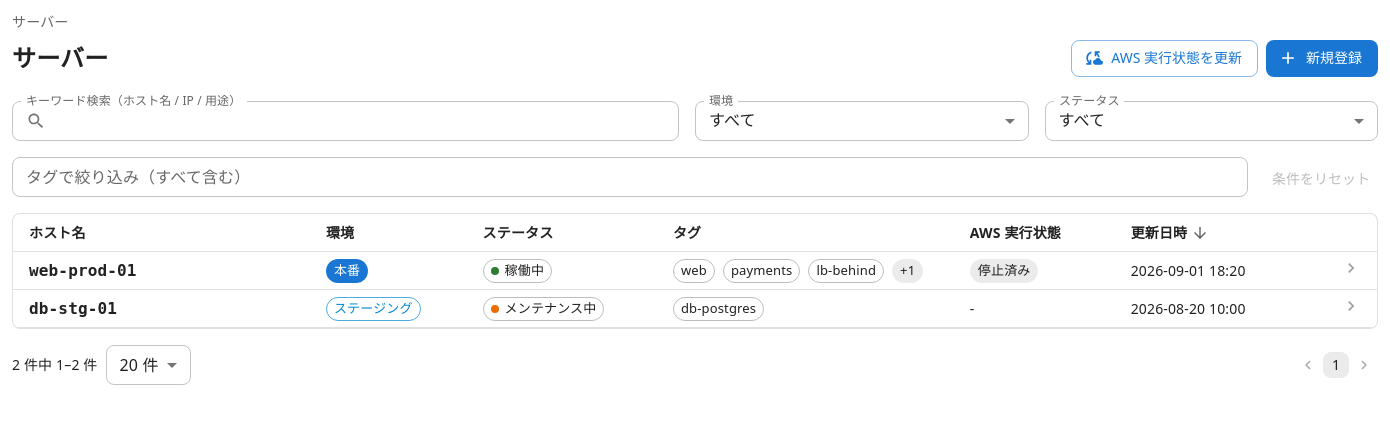
Test: ServerListPage › ソートヘッダークリックで URL の sort / order が変わる
Check: the text "web-prod-01" is shown, box [29, 261, 137, 280]
Step 1. Click the button "ホスト名" → x=57, y=233, box [29, 223, 86, 242]
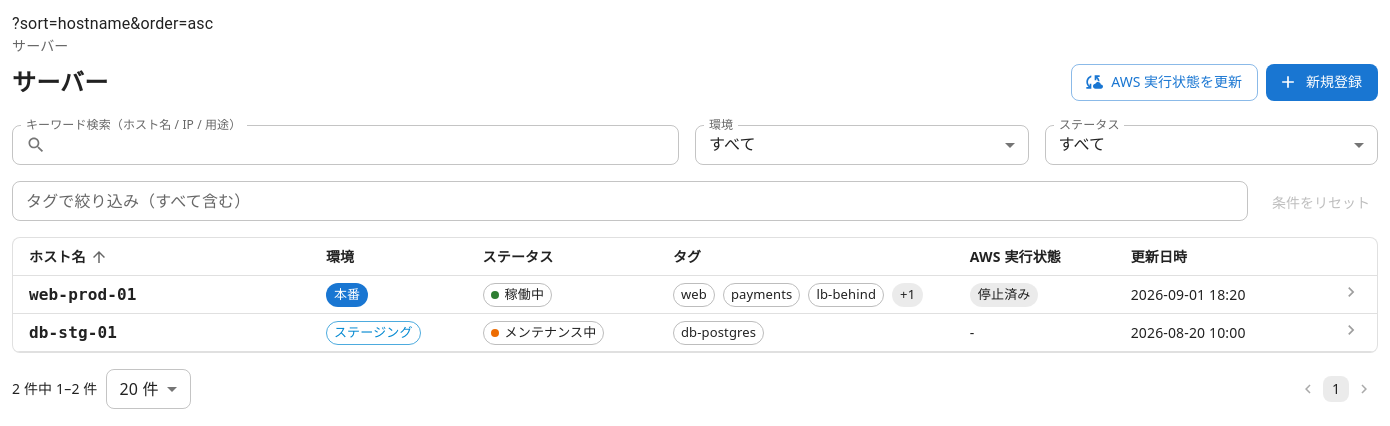
Check: the text with test id "location-search" shows "sort=hostname", box [12, 14, 213, 33]
Check: the text with test id "location-search" shows "order=asc", box [12, 14, 213, 33]
